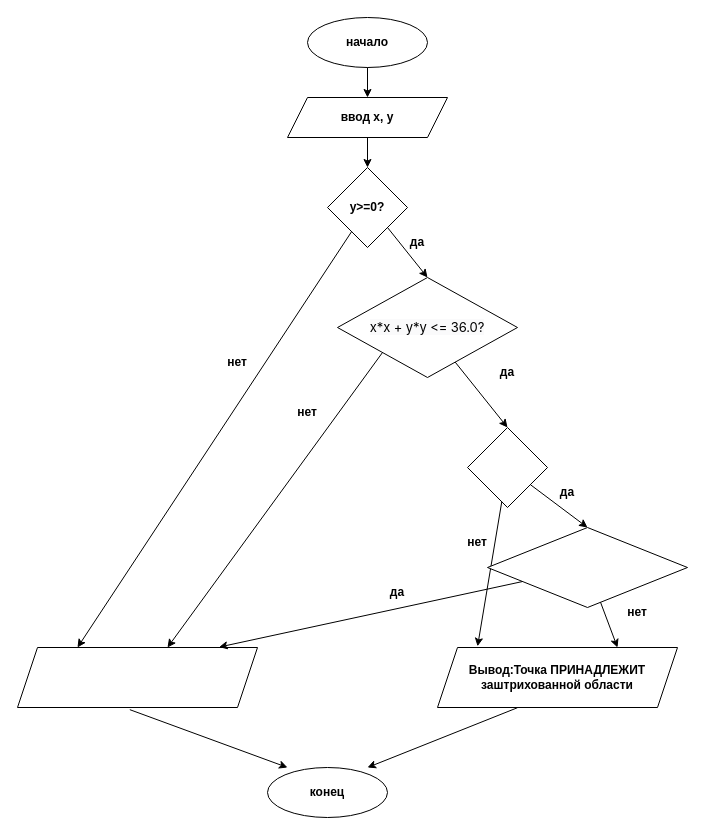
Image size: 705x835. Some labels were removed from this diagram. Each missing label, with the box of its shape:
x*x + y*y <= 9.0?: (486, 526, 688, 608)
Вывод:Точка НЕ ПРИНАДЛЕЖИТ заштрихованной области: (16, 646, 258, 708)
х>=0?: (466, 426, 548, 508)
